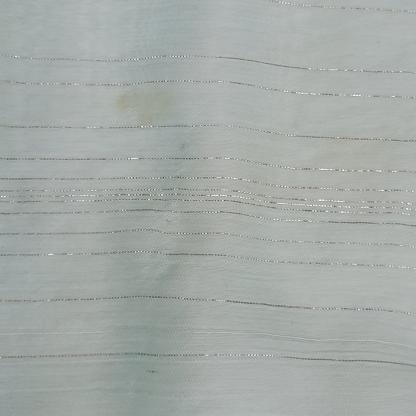spot: (137, 89, 177, 124), (118, 92, 143, 112), (179, 140, 191, 153)
